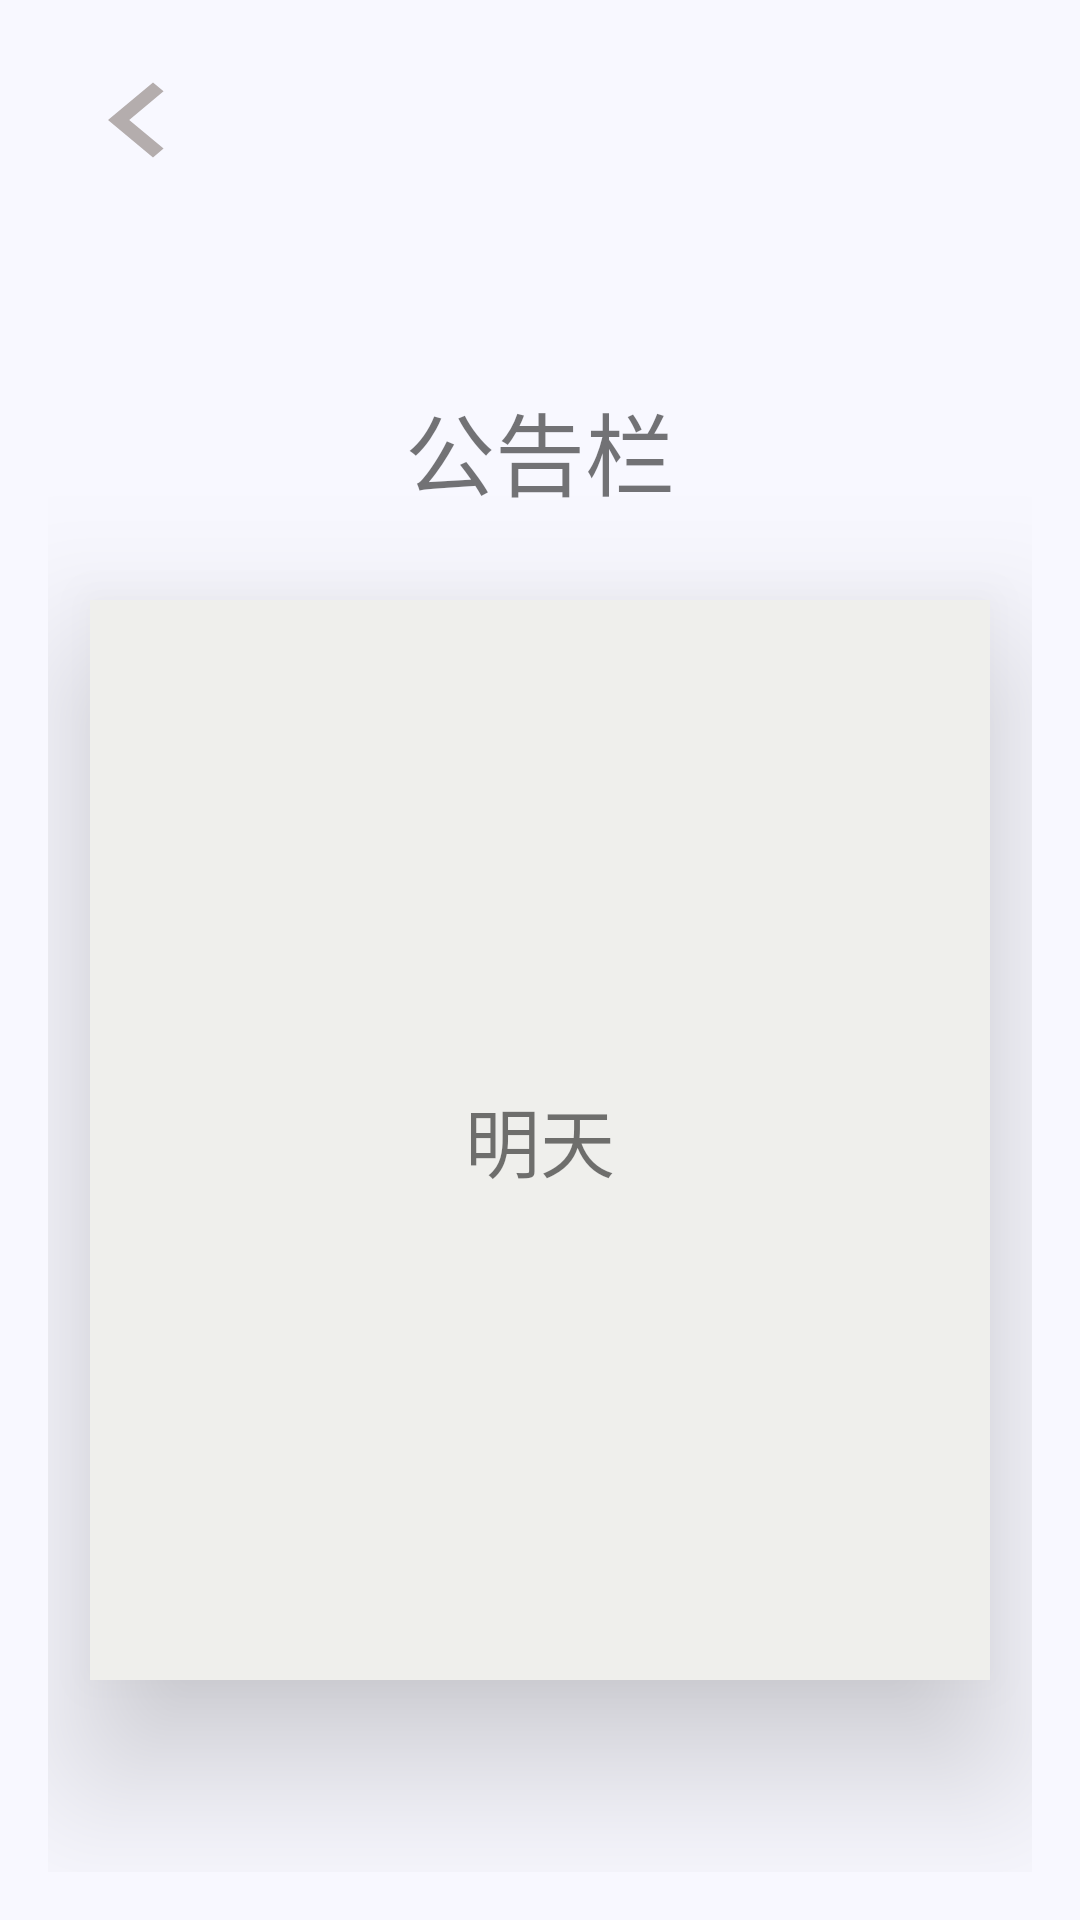

Screen size 1080 × 1920. Icon name, then its center in pixels as point (x, y):
keyboard arrow left: point (135, 120)
